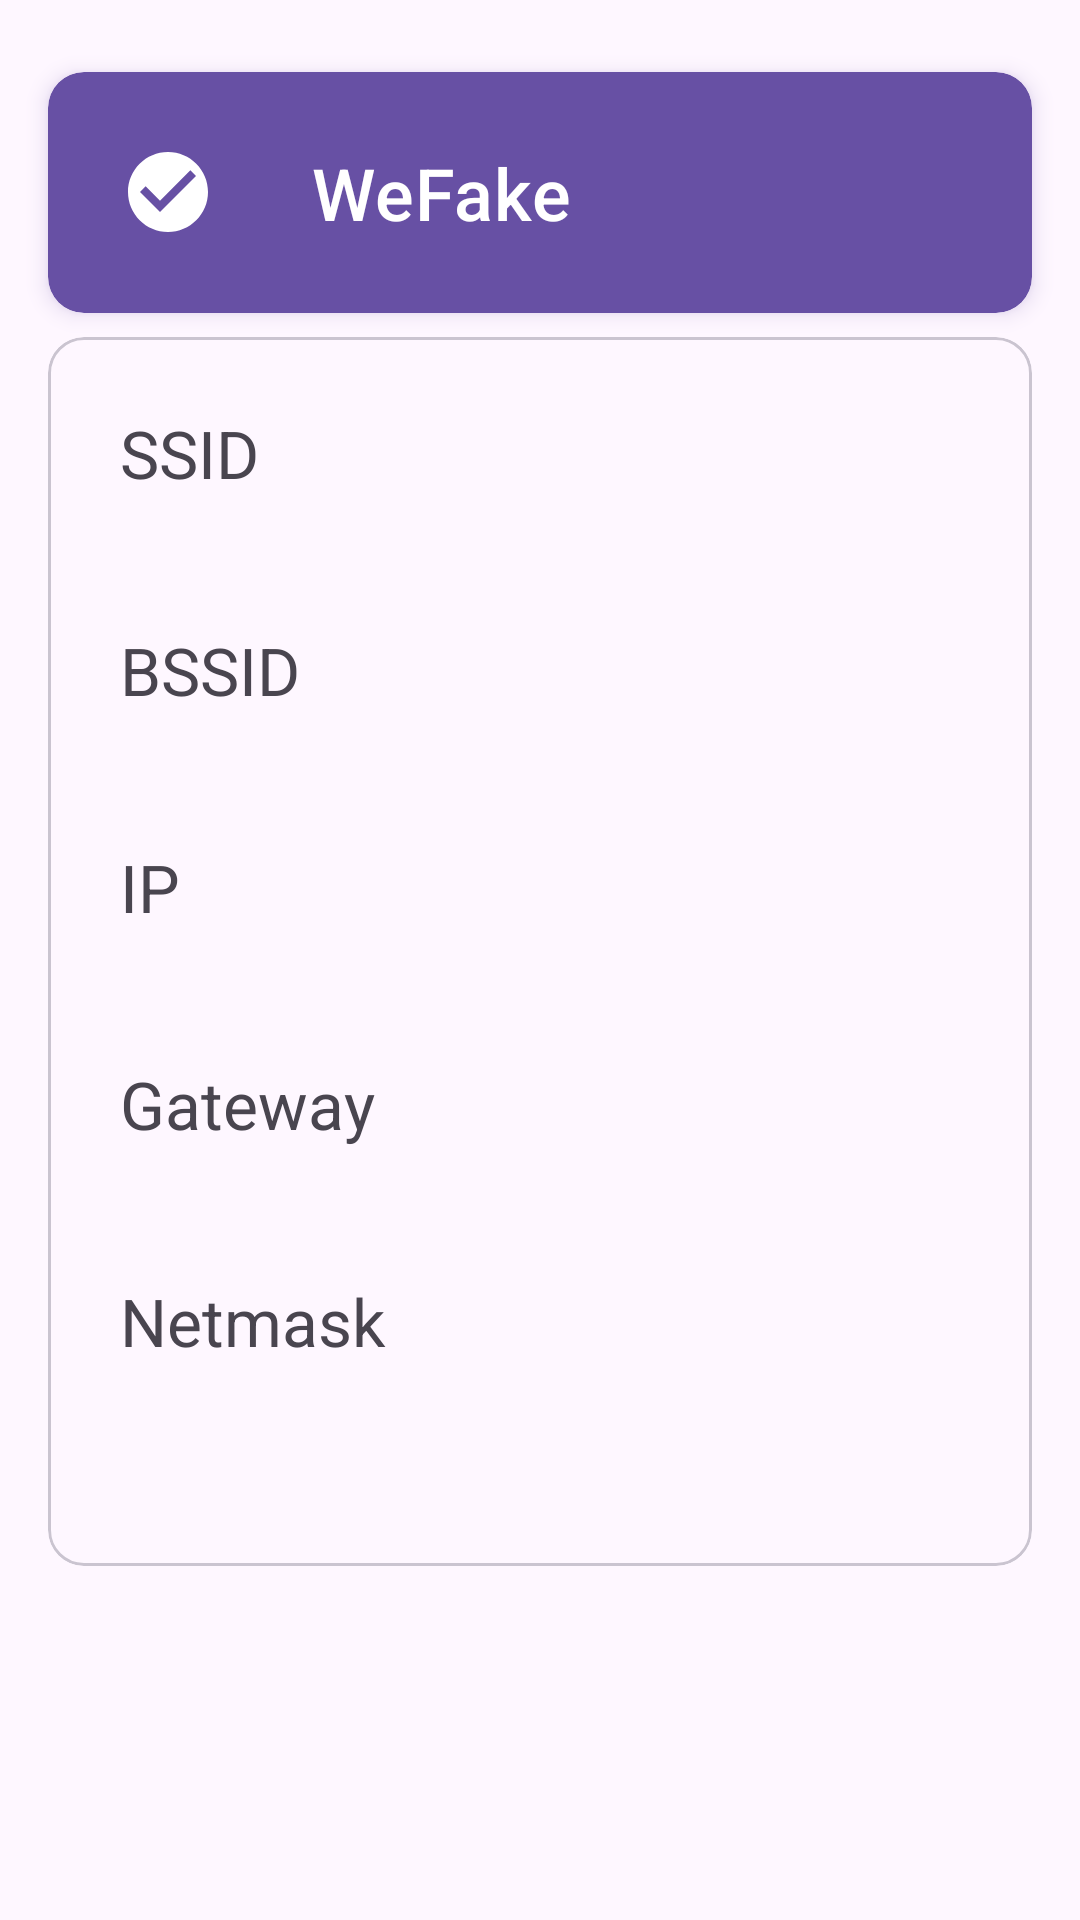

Locate icon controls on the screen. Image size 1080 × 1920, boxes as (x1, y1, x2, y2).
check circle: (128, 152, 208, 232)
